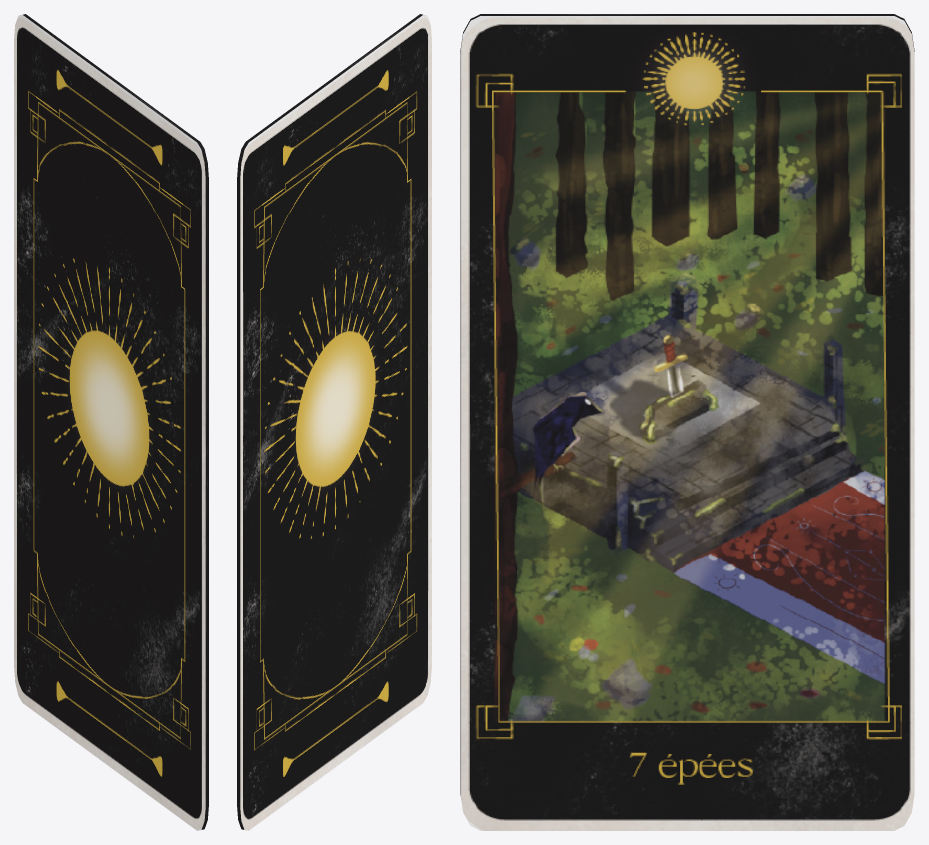
File: 7_epees.gltf
The picture shows the model from 3 angles, left to right: view 1: azimuth 30°, elevation 25°; view 2: azimuth 150°, elevation 25°; view 3: azimuth 270°, elevation 25°; orthographic projection. The views are drawn at different scales.
Parts seen in each view (by area): view 1: 2 Batons; view 2: 2 Batons; view 3: 2 Batons.
Boxes of the visible parts, bbox=[...] form: 2 Batons: bbox=[14, 14, 208, 830]; 2 Batons: bbox=[237, 14, 431, 830]; 2 Batons: bbox=[460, 14, 914, 830].
Bounding box in the file's own units: 0.0191 × 3.96 × 2.
Materials: 1 (1 with a texture image).
